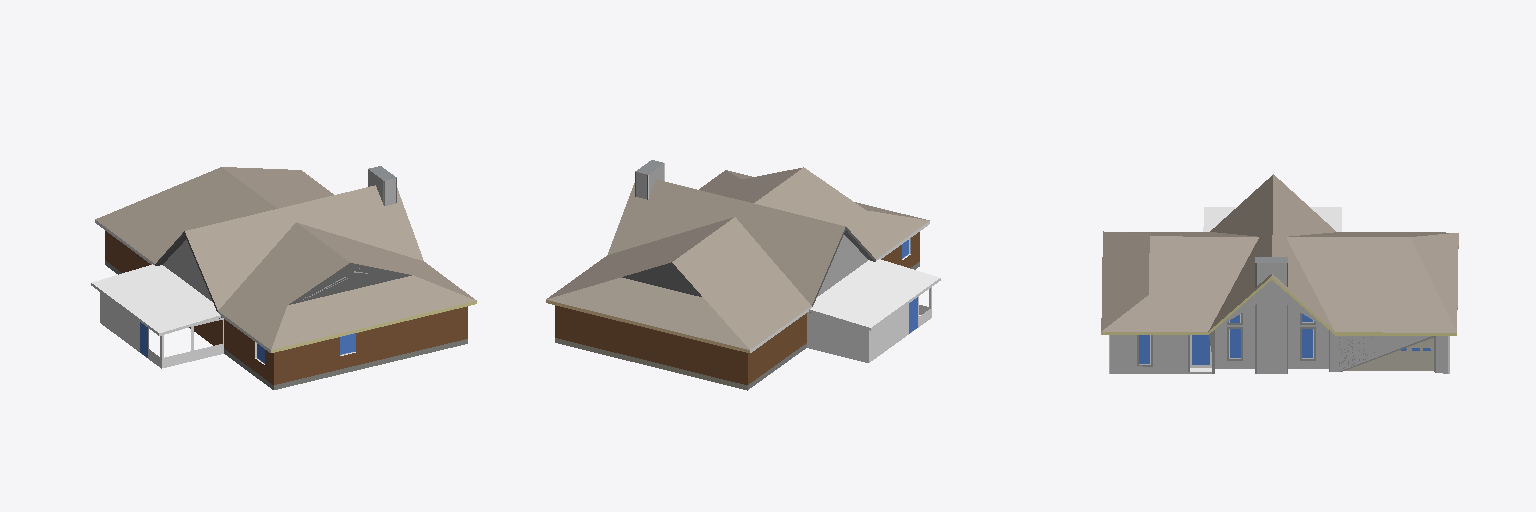
Rendered from Betty'sHouse.obj.
3 renders of one model, left to right at view 1: azimuth 30°, elevation 25°; view 2: azimuth 150°, elevation 25°; view 3: azimuth 270°, elevation 25°, orthographic.
Parts seen in each view (by area): view 1: Mesh15 Model; view 2: Mesh15 Model; view 3: Mesh15 Model, Mesh4 Group1_1_1 Model, Mesh2 Group2_1_1 Model.
Boxes of the visible parts, x1=… form: Mesh15 Model: x1=91, y1=166, x2=476, y2=389; Mesh15 Model: x1=546, y1=160, x2=940, y2=390; Mesh15 Model: x1=1101, y1=174, x2=1458, y2=373; Mesh4 Group1_1_1 Model: x1=1345, y1=338, x2=1433, y2=370; Mesh2 Group2_1_1 Model: x1=1192, y1=335, x2=1209, y2=364.
Bounding box in the file's own units: 644 × 255 × 740.